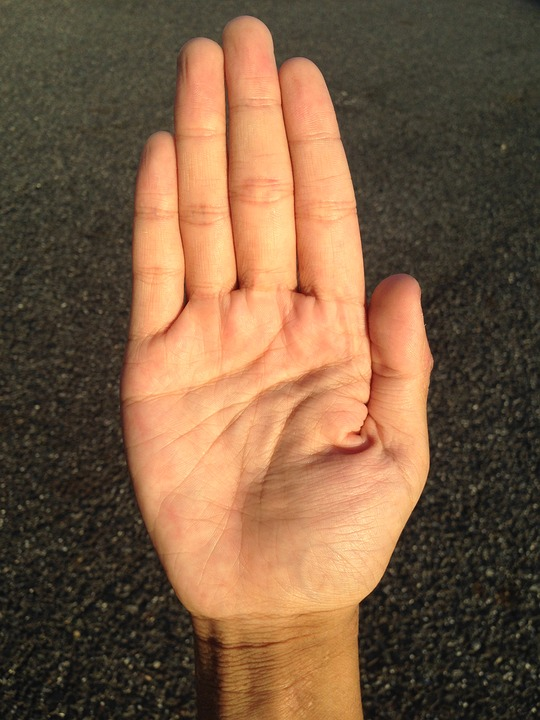non-diseased: (128, 25, 444, 614)
